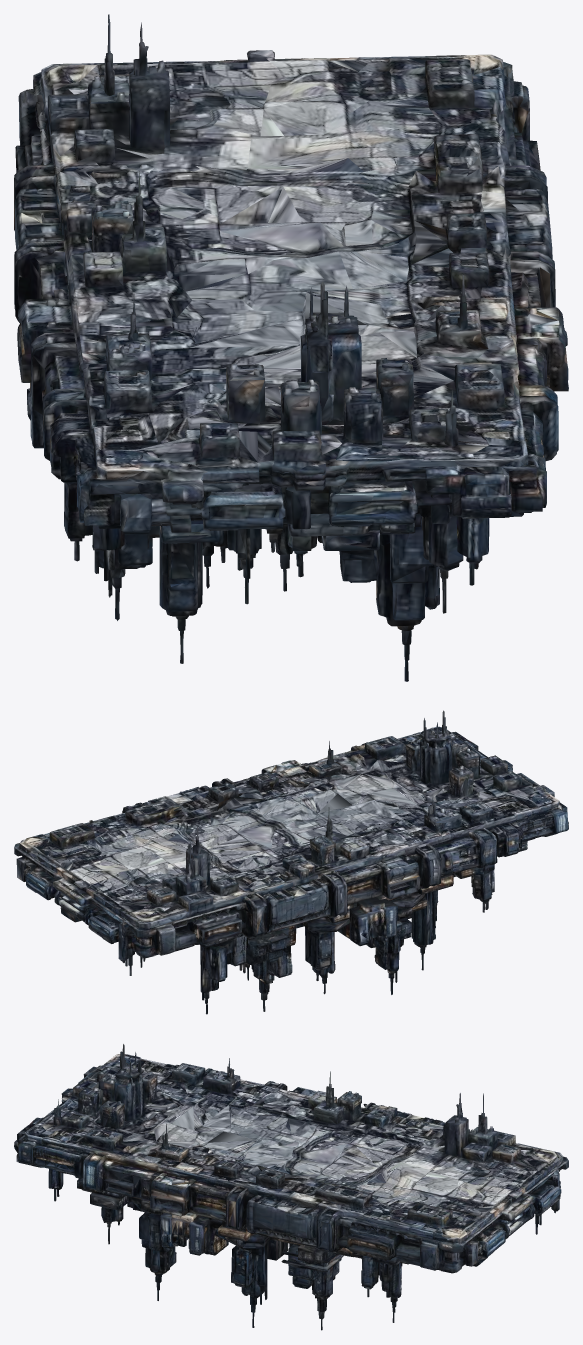
File: sky-platform-b.glb
3 renders of one model, top to bottom at view 1: azimuth 30°, elevation 25°; view 2: azimuth 150°, elevation 25°; view 3: azimuth 270°, elevation 25°, orthographic. The views are drawn at different scales.
Visible parts, largest first — view 1: 3c683df7-a398-447c-9107-33961ff54e08; view 2: 3c683df7-a398-447c-9107-33961ff54e08; view 3: 3c683df7-a398-447c-9107-33961ff54e08.
Boxes of the visible parts, x1,y1,x2,y2 form: 3c683df7-a398-447c-9107-33961ff54e08: (14, 14, 568, 681); 3c683df7-a398-447c-9107-33961ff54e08: (14, 710, 568, 1014); 3c683df7-a398-447c-9107-33961ff54e08: (14, 1044, 568, 1330).
Bounding box in the file's own units: 0.7859 × 0.484 × 0.9826.
Materials: 1 (1 with a texture image).
